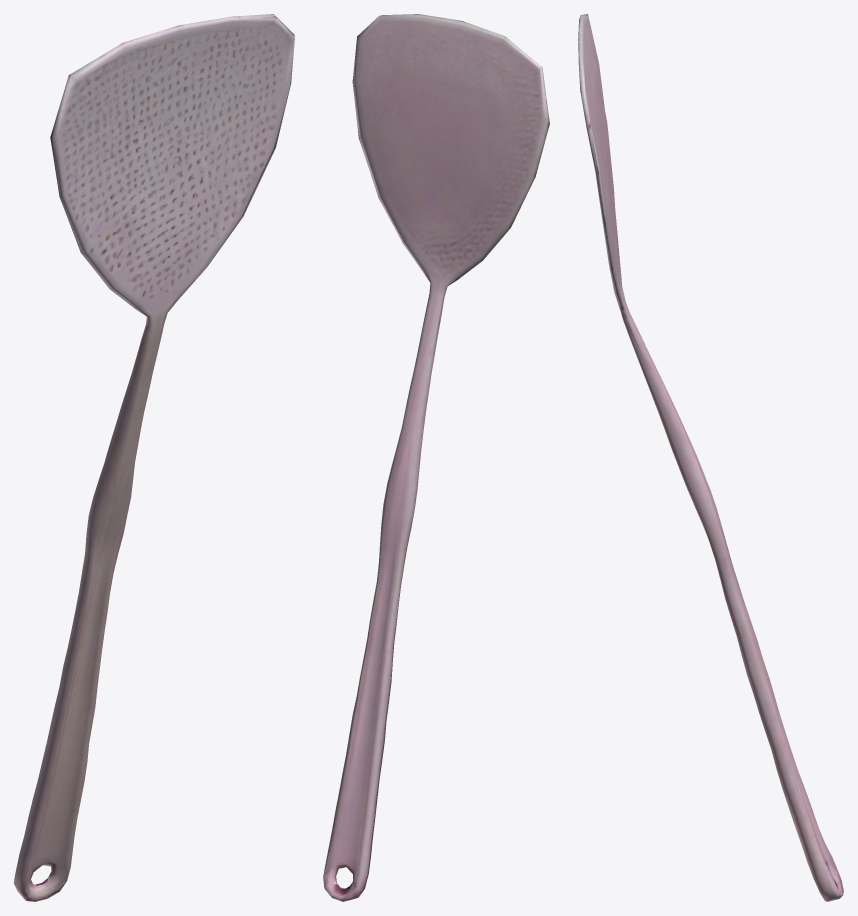
File: TepokanNyamuk.fbx
3 views of the same model, side by side, from view 1: azimuth 30°, elevation 25°; view 2: azimuth 150°, elevation 25°; view 3: azimuth 270°, elevation 25° (orthographic). The views are drawn at different scales.
Parts seen in each view (by area): view 1: Mesh1_Mesh1.001; view 2: Mesh1_Mesh1.001; view 3: Mesh1_Mesh1.001.
Part boxes in pixels (<box>): Mesh1_Mesh1.001: <box>14,14,294,901</box>; Mesh1_Mesh1.001: <box>323,14,549,901</box>; Mesh1_Mesh1.001: <box>578,14,843,901</box>.
Size of the model in its own units: 51.55 by 199 by 55.64.
Materials: 1 (1 with a texture image).
